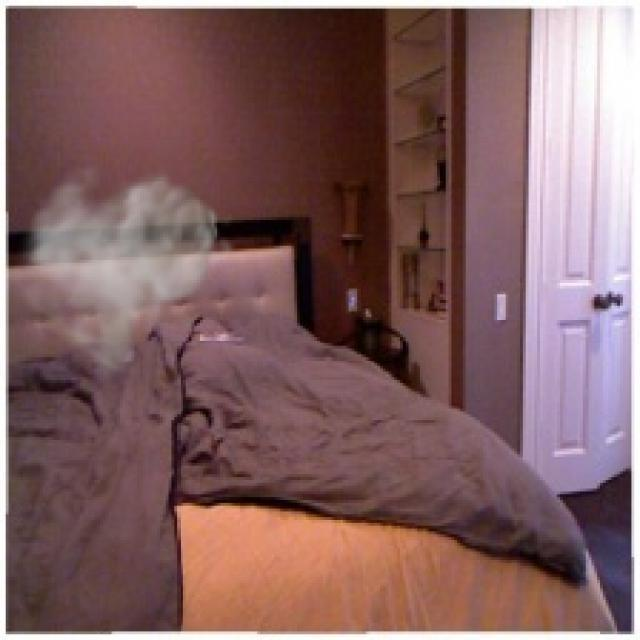Smoke: (14, 152, 237, 388)
